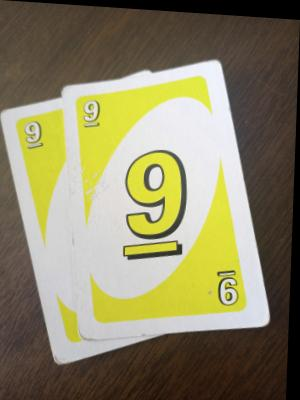num_9: (118, 145, 211, 272), (76, 98, 122, 149)
yellow: (13, 117, 74, 222)
